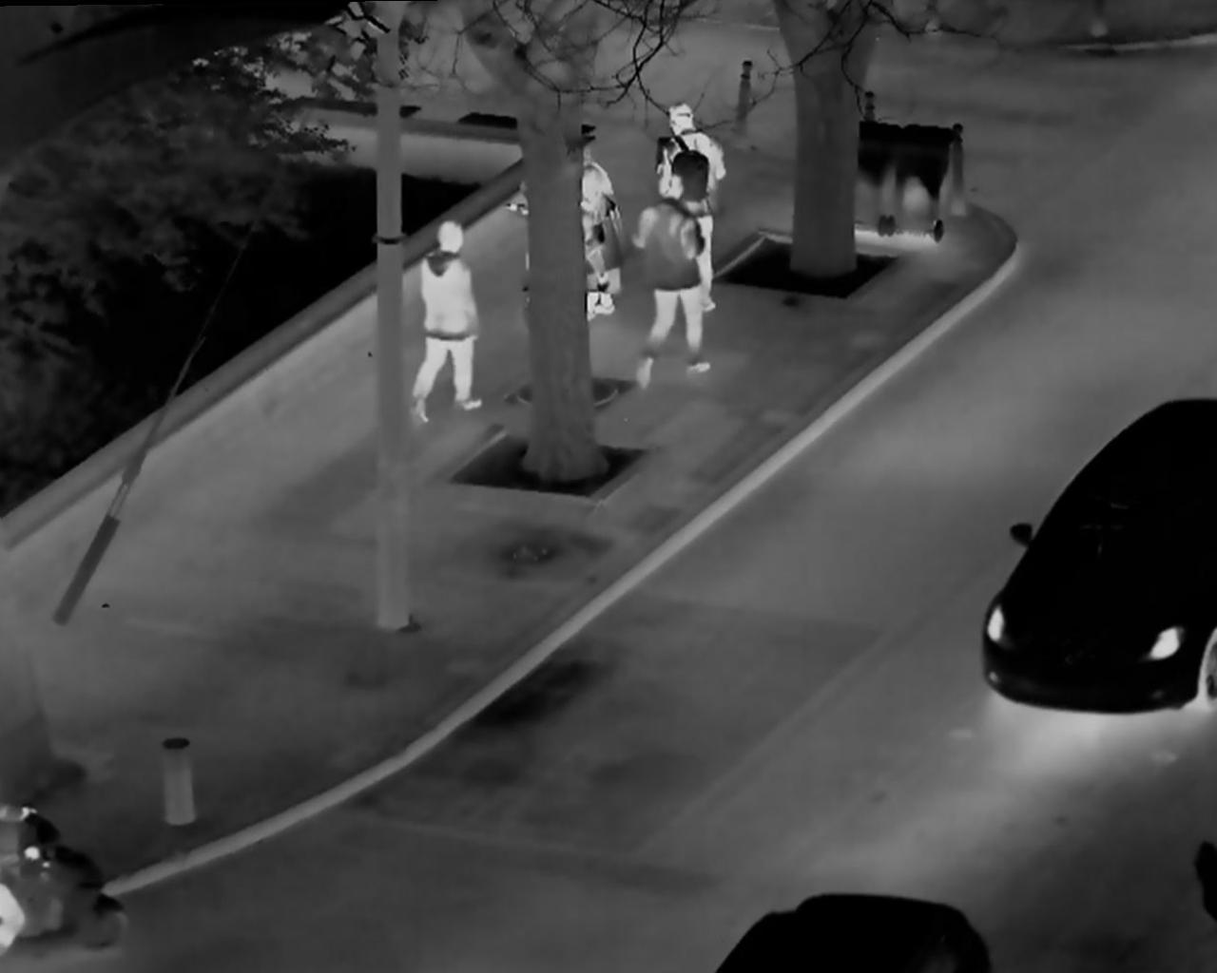person: (406, 201, 505, 466), (655, 89, 738, 303), (630, 172, 709, 396), (555, 131, 636, 337)
